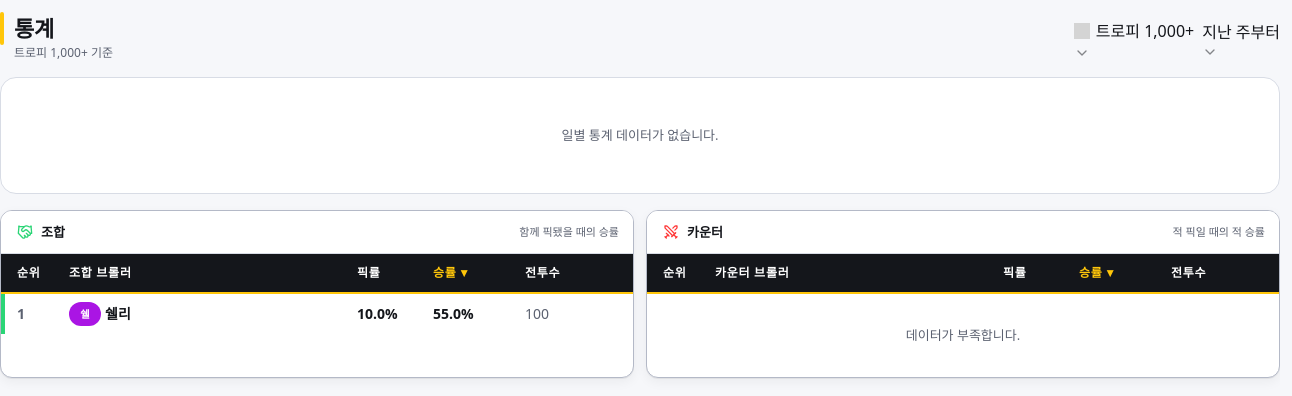
BrawlerStatsPanel › 티어 필터 변경 시 해당 필터로 통계를 다시 가져오고 URL 을 갱신한다
Click the dropdown named "티어 범위 선택".
click(1134, 40)  # box [1074,19,1194,61]
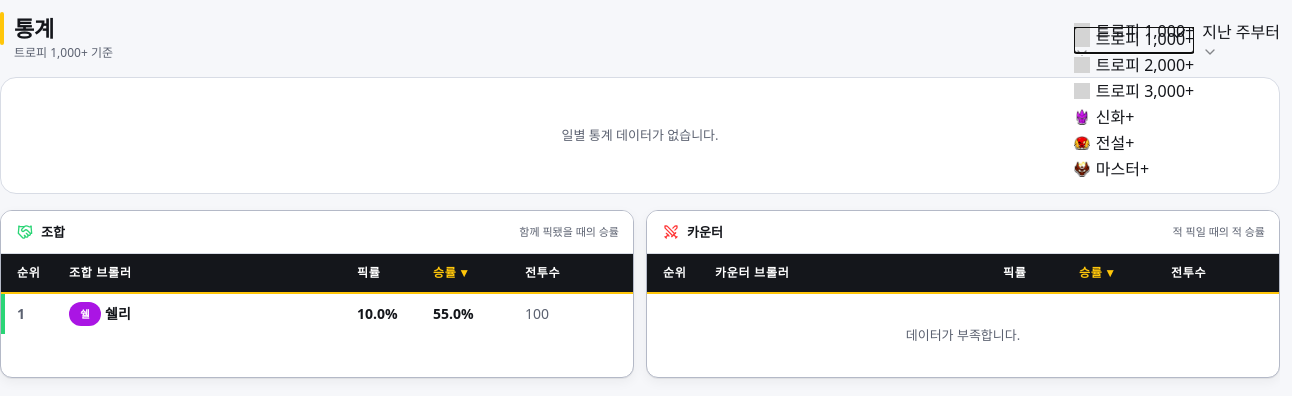
Click the option "트로피 3,000+".
click(1134, 92)  # box [1074,79,1194,105]
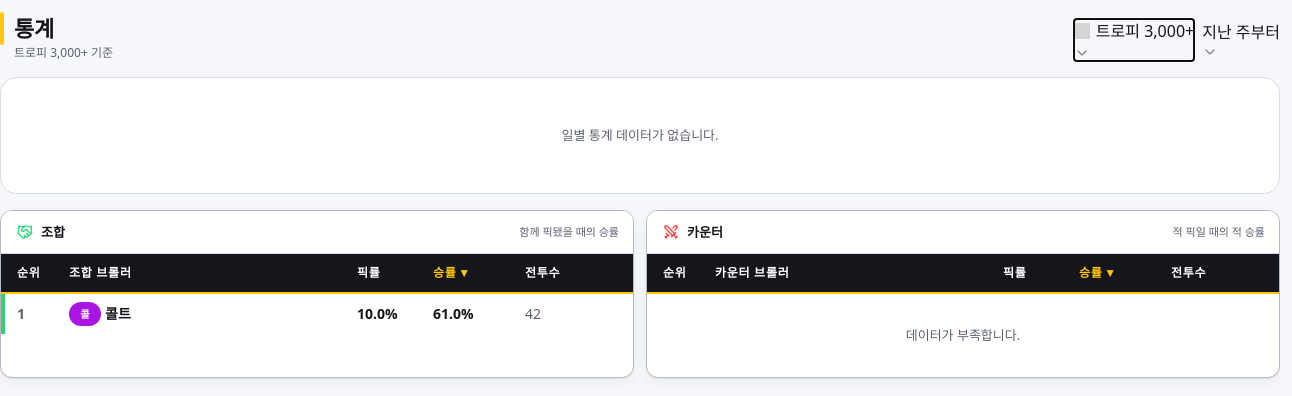
Expected: the text "콜트" is shown, [105,304,131,324]
